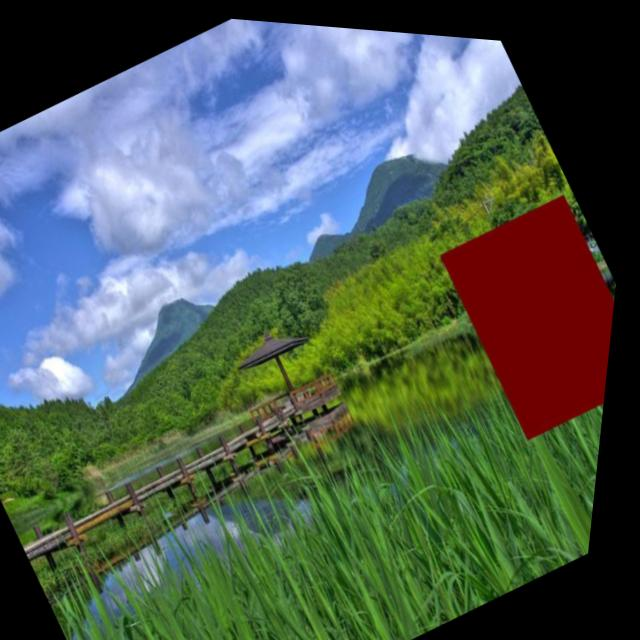RedSquare: (420, 163, 629, 442)
